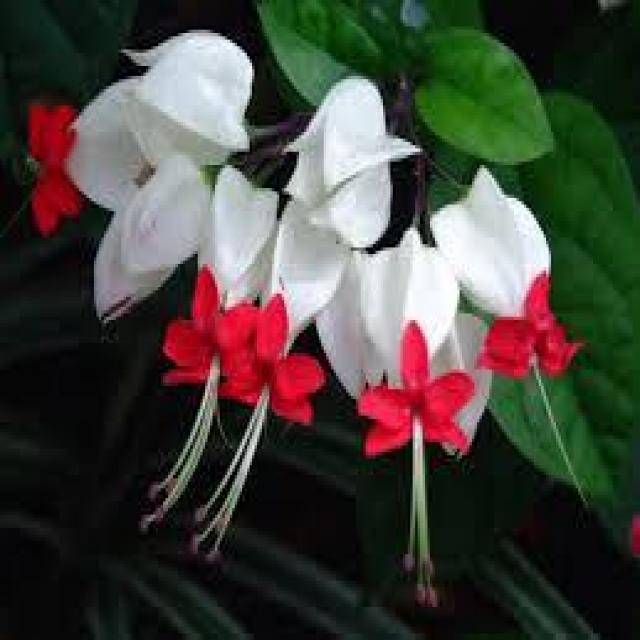organic waste: (424, 148, 589, 382), (324, 224, 482, 468), (234, 168, 347, 436), (163, 154, 274, 418)
